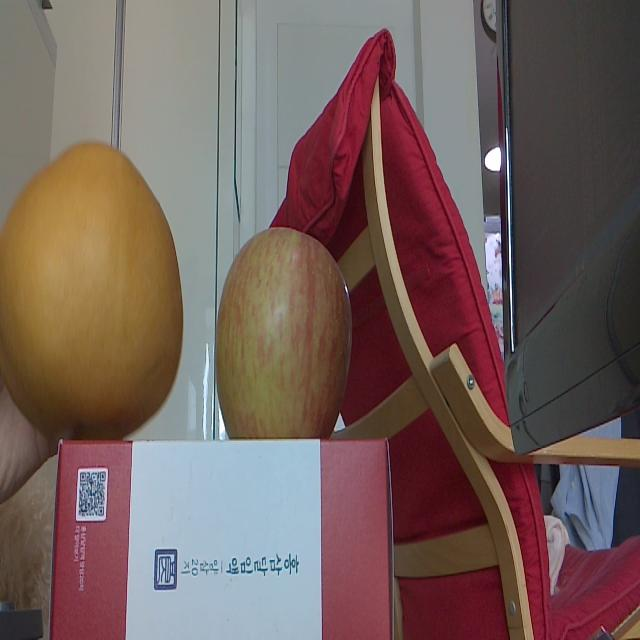apple: (214, 213, 350, 437)
pear: (2, 142, 183, 438)
